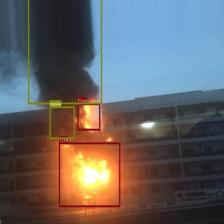fire: (59, 142, 120, 207), (77, 103, 100, 130)
smoke: (27, 0, 102, 104), (50, 106, 75, 139)
